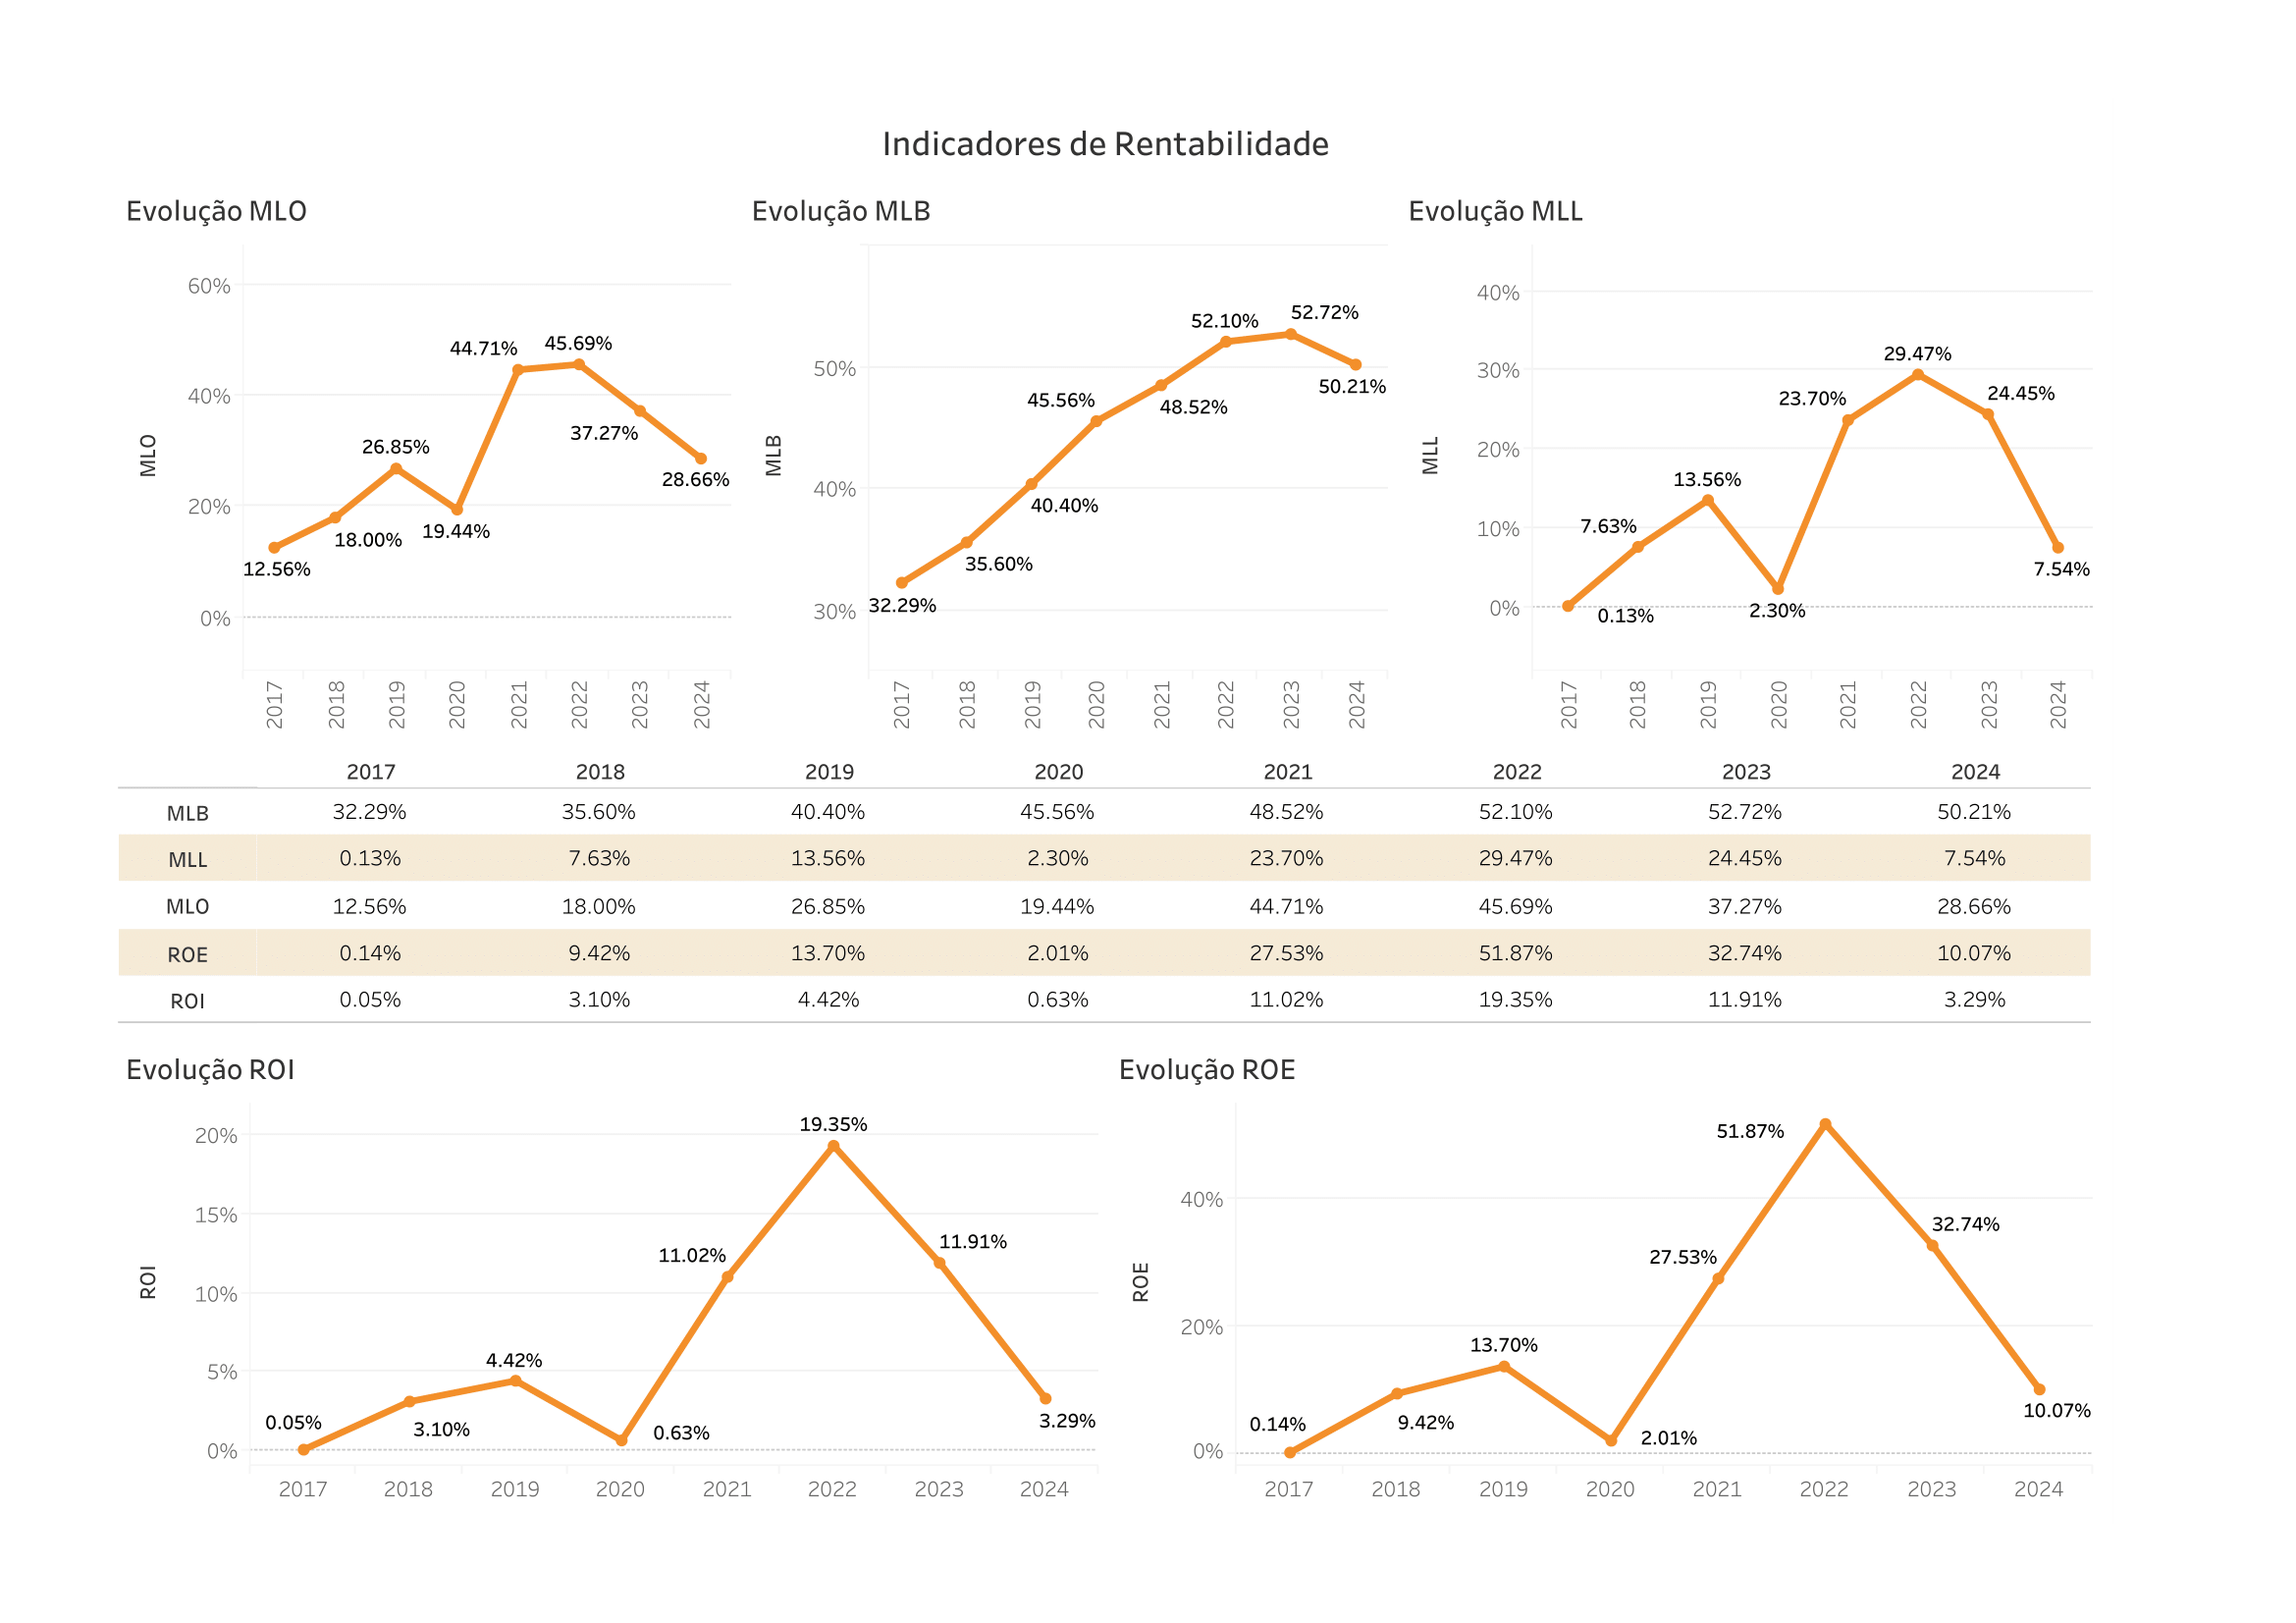

This screenshot's page, from the dashboard's own definition file:
{"tool":"tableau","page":{"name":"Rentabilidade","canvas":[1169,827],"ordinal":4},"visuals":[{"type":"title","box":[8,8,1153,47]},{"type":"worksheet","title":"Evolução MLO","mark":"Line","rows":["MLO"],"cols":["Ano"],"box":[8,55,362.5,327.8]},{"type":"worksheet","title":"Evolução MLB","mark":"Line","rows":["MLB"],"cols":["Ano"],"box":[370.5,55,381.5,327.8]},{"type":"worksheet","title":"Evolução MLL","mark":"Line","rows":["MLL"],"cols":["Ano"],"box":[752,55,409,327.8]},{"type":"worksheet","title":"Tabela Ind. Rentabilidade","mark":"Automatic","cols":["Ano"],"box":[8,382.8,1153,162]},{"type":"worksheet","title":"Evolução ROI","mark":"Line","rows":["ROI"],"cols":["Ano"],"box":[8,544.9,576.5,274.2]},{"type":"worksheet","title":"Evolução ROE","mark":"Line","rows":["ROE"],"cols":["Ano"],"box":[584.5,544.9,576.5,274.2]}]}

Visuals, with their boxes in screenshot pixels (x1, y1, x2, y2), scaled from the page's 1169x827 canvas onto the 2296x1623 screenshot:
title: rect(16, 16, 2280, 108)
"Evolução MLO" worksheet (Line marks): rect(16, 108, 727, 751)
"Evolução MLB" worksheet (Line marks): rect(727, 108, 1477, 751)
"Evolução MLL" worksheet (Line marks): rect(1477, 108, 2280, 751)
"Tabela Ind. Rentabilidade" worksheet: rect(16, 751, 2280, 1069)
"Evolução ROI" worksheet (Line marks): rect(16, 1069, 1148, 1607)
"Evolução ROE" worksheet (Line marks): rect(1148, 1069, 2280, 1607)
